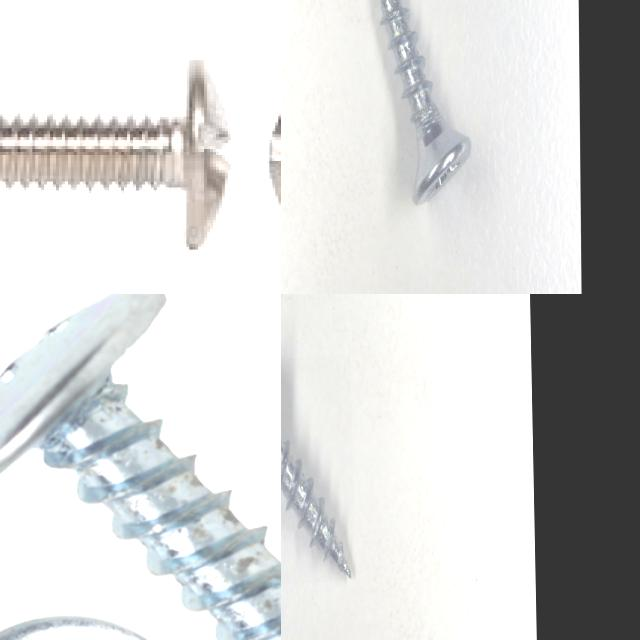Screw: (0, 294, 281, 640), (0, 57, 234, 253), (379, 0, 471, 204), (281, 440, 351, 576)
